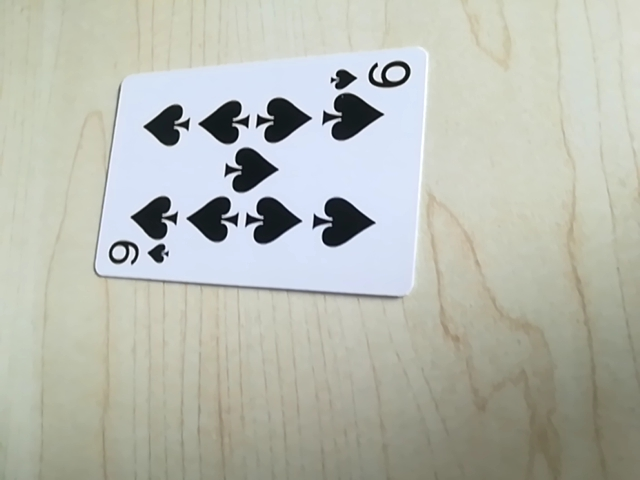ht 9: (327, 54, 416, 94), (101, 238, 171, 274)
